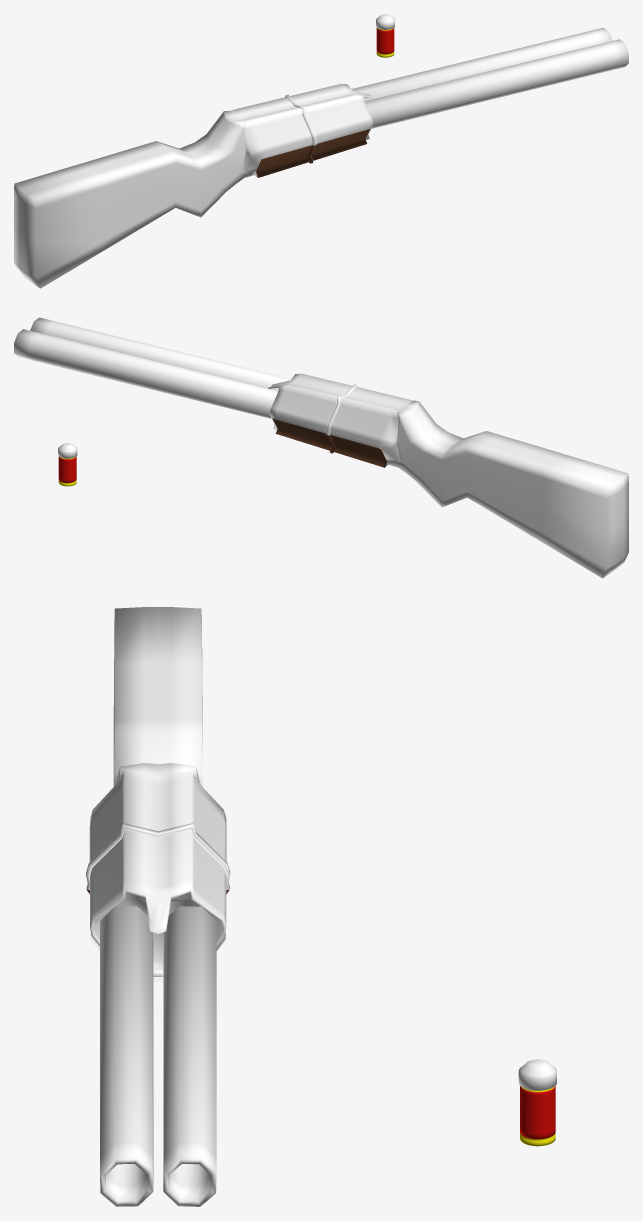
File: Tester shotty.glb
The picture shows the model from 3 angles, top to bottom: view 1: azimuth 30°, elevation 25°; view 2: azimuth 150°, elevation 25°; view 3: azimuth 270°, elevation 25°; orthographic projection. The views are drawn at different scales.
Visible parts, largest first — view 1: gun back, Gun front, bullet; view 2: gun back, Gun front, bullet; view 3: Gun front, gun back, bullet.
Boxes of the visible parts, bbox=[...] form: gun back: bbox=[14, 97, 312, 288]; Gun front: bbox=[285, 27, 628, 163]; bullet: bbox=[376, 14, 394, 57]; gun back: bbox=[330, 387, 628, 578]; Gun front: bbox=[14, 317, 357, 453]; bullet: bbox=[58, 443, 77, 486]; Gun front: bbox=[86, 823, 230, 1206]; gun back: bbox=[89, 607, 226, 861]; bullet: bbox=[518, 1059, 556, 1146].
Size of the model in its own units: 3.08 by 0.5695 by 1.06.
